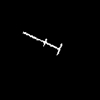double_crochet: (23, 32, 61, 54)
